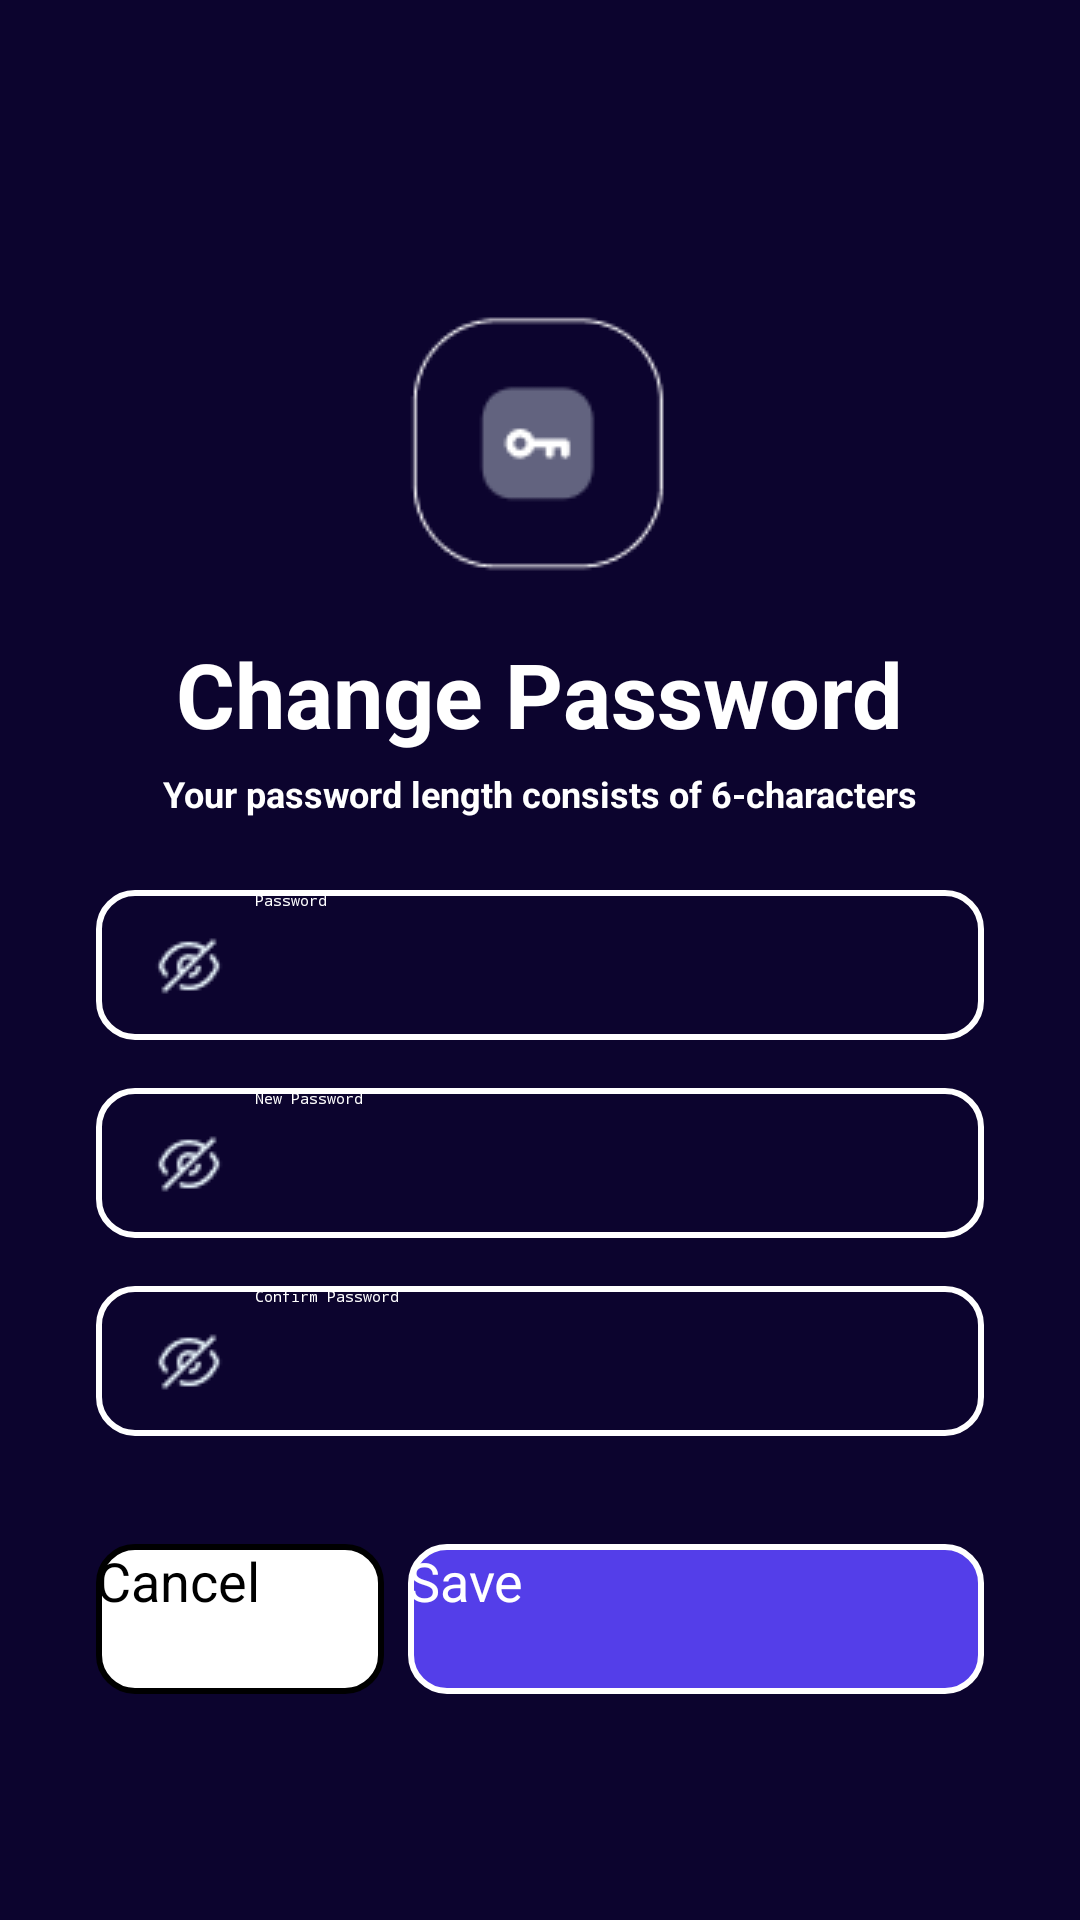

Locate icon controls on the screen. Image size 1080px x 1920px, boxes as (x1, y1, x2, y2).
key: (412, 317, 664, 570)
